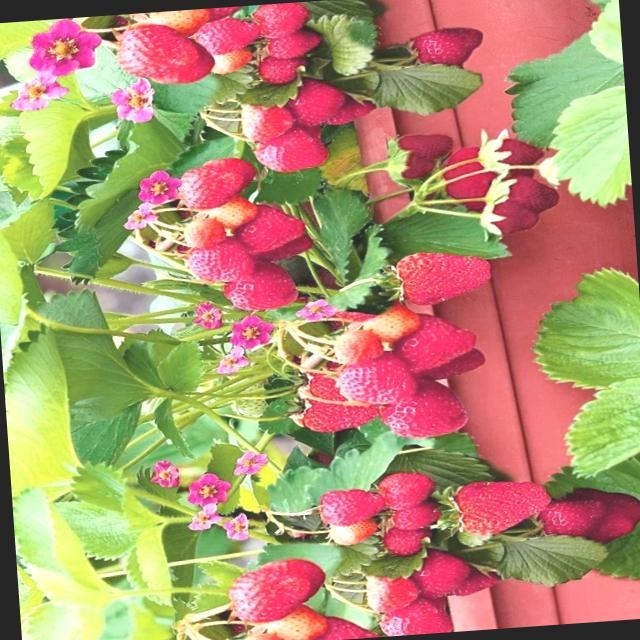ripe: (452, 471, 554, 539), (292, 362, 385, 436), (374, 379, 474, 442), (550, 480, 640, 550), (108, 20, 200, 82), (385, 310, 477, 370), (393, 249, 489, 306), (226, 200, 310, 258), (228, 568, 310, 626), (298, 377, 377, 434), (223, 262, 300, 312), (252, 123, 331, 171), (482, 170, 556, 219), (173, 163, 248, 210), (398, 29, 482, 69), (402, 550, 468, 598), (186, 238, 255, 282), (376, 599, 456, 636), (276, 76, 345, 118), (372, 468, 436, 511), (293, 609, 379, 640), (538, 496, 601, 538), (198, 14, 258, 56), (480, 130, 540, 172), (362, 572, 422, 612), (319, 487, 384, 522), (479, 203, 537, 237), (251, 2, 303, 37), (260, 27, 319, 55), (386, 501, 442, 530), (380, 526, 432, 557), (253, 52, 301, 84), (391, 131, 449, 157), (386, 154, 434, 180)
